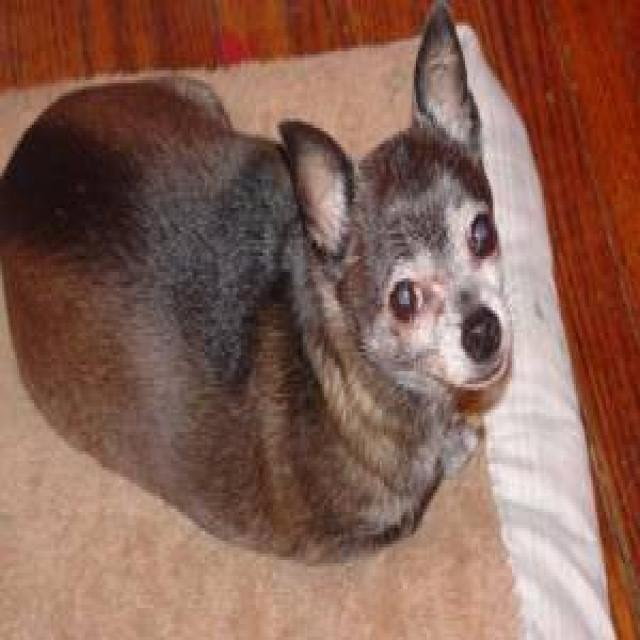dog-chihuahua: (2, 3, 518, 576)
